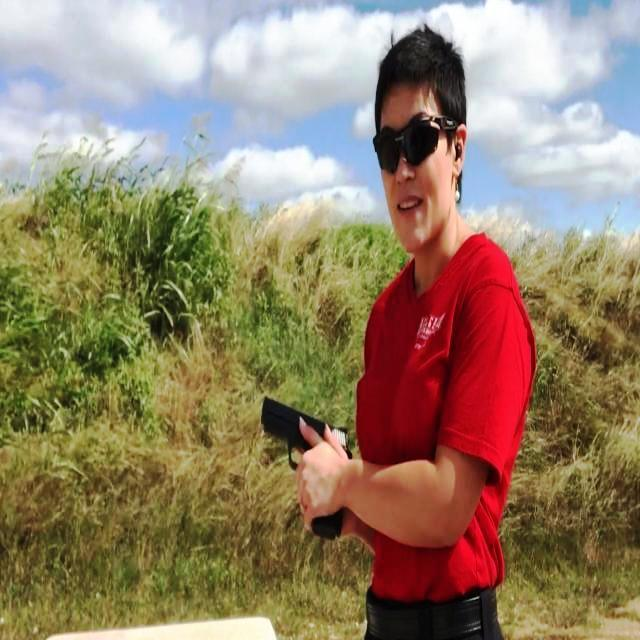Gun: (254, 389, 364, 559)
